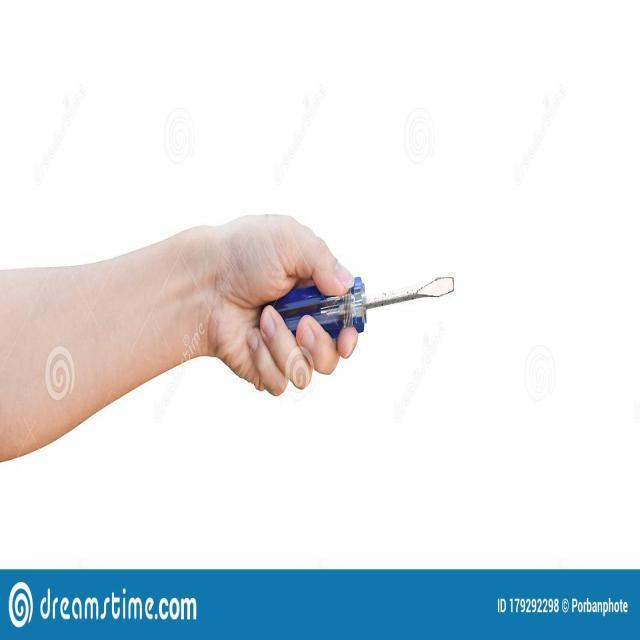screwdriver: (256, 244, 471, 338)
